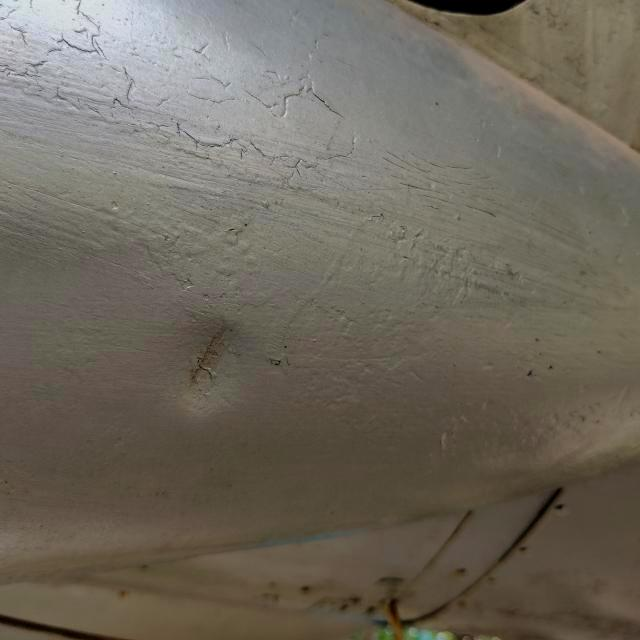dent: (145, 301, 267, 425)
